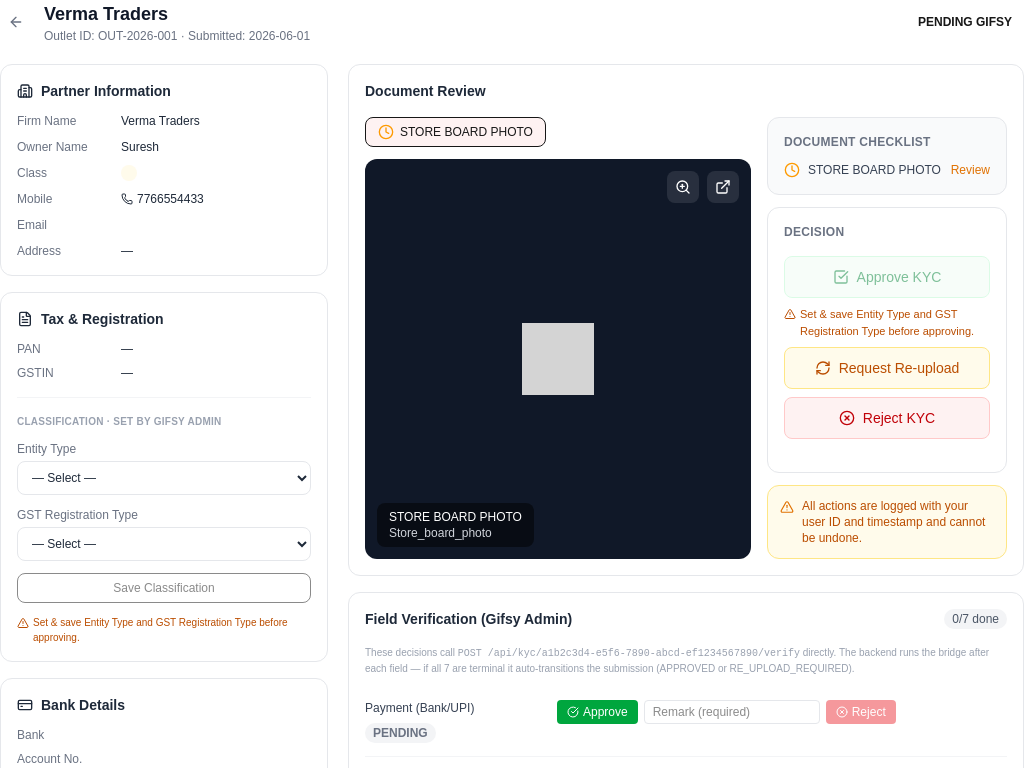
Test case: CL — Gifsy classification + group inheritance › CL2: pick both + Save POSTs /gst-details and, once persisted, Approve un-gates
Select "Individual / Proprietor" in the dropdown with test id "entity-type-select" at [164, 478], box [17,461,311,495]
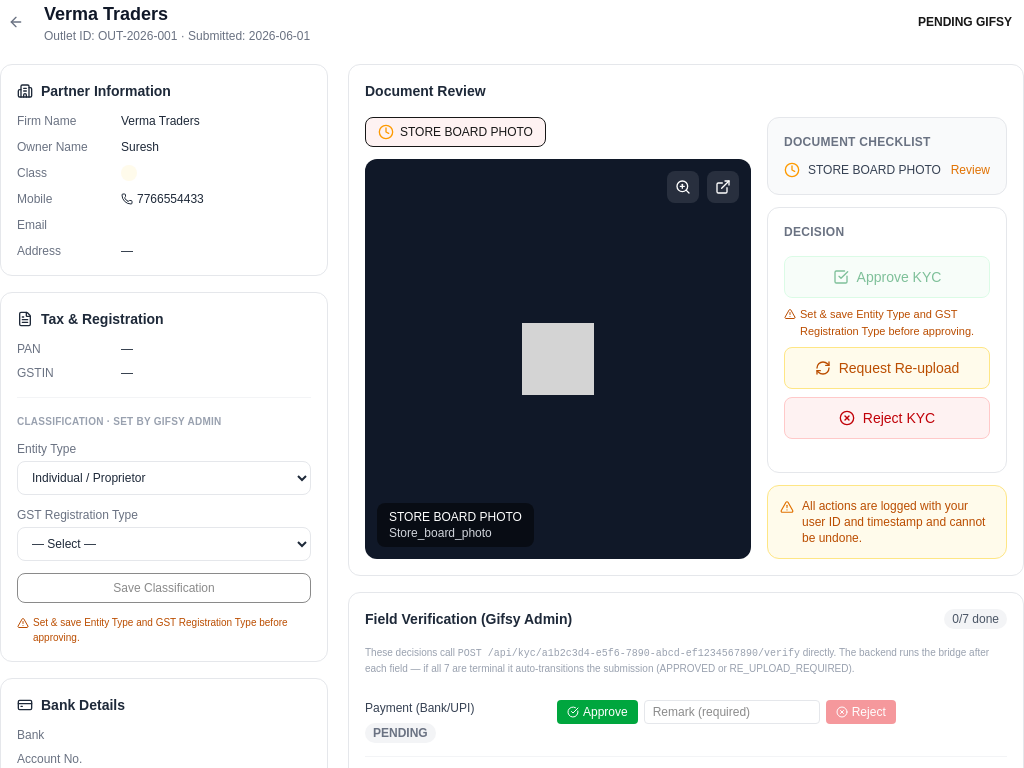
Select "Regular" in the dropdown with test id "gst-reg-type-select" at [164, 544], box [17,527,311,561]
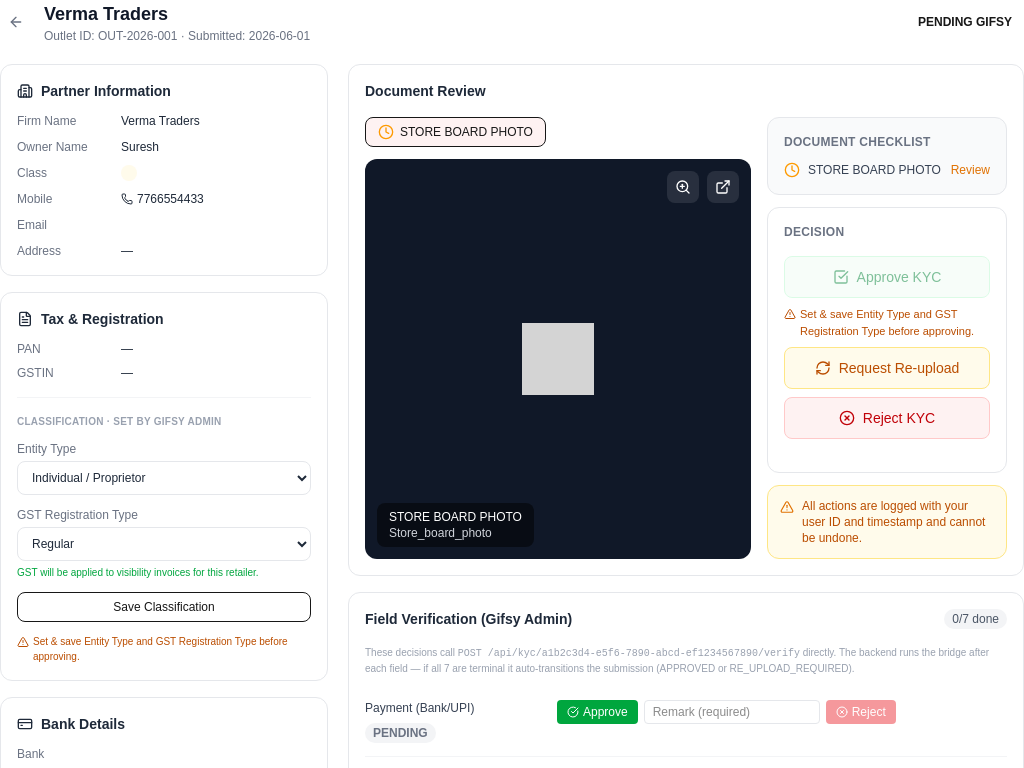
Expected: the button with test id "approve-kyc-btn" is disabled, [784,256,990,298]
Now the button with test id "save-classification-btn" is enabled
Click the button with test id "save-classification-btn" at [164, 607], box [17,592,311,622]
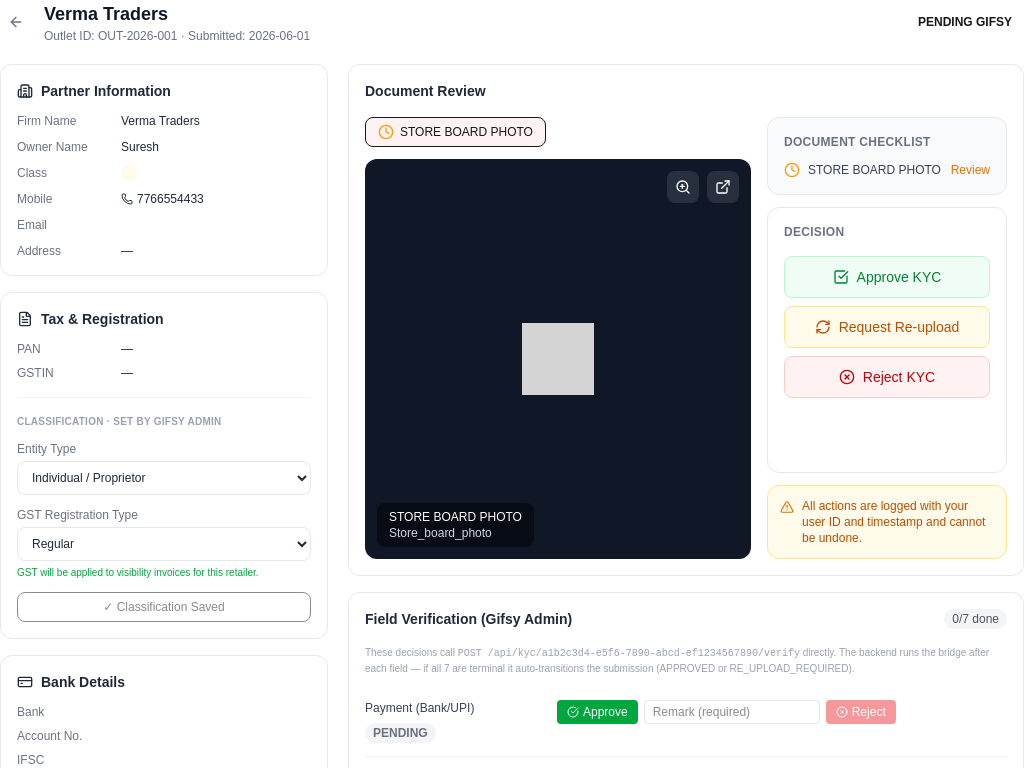
Now the button with test id "approve-kyc-btn" is enabled, box [784,256,990,298]
